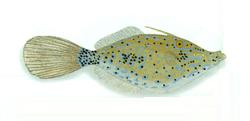Aluterus_scriptus: (17, 19, 228, 98)
